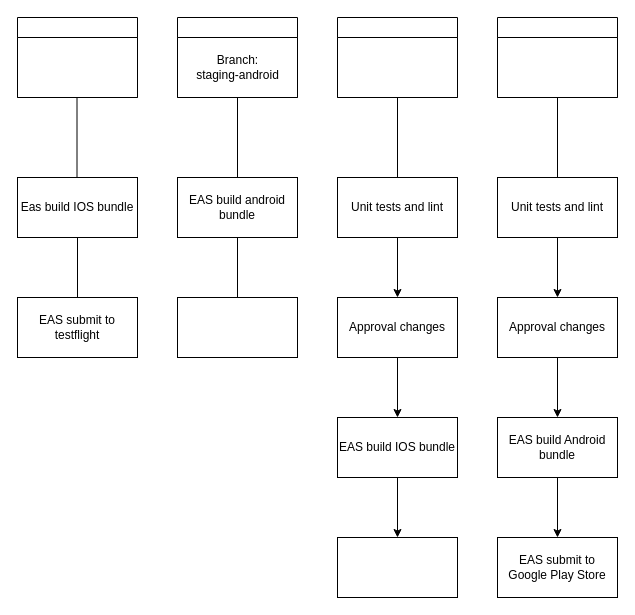
This 635x615 diagram has some shape labels left out. Each missing label, with the box of its shape:
Branch: prod-android: (496, 36, 618, 98)
Branch: prod-ios: (336, 36, 458, 98)
Branch: staging-ios: (16, 36, 138, 98)
EAS submit Google internal Test: (176, 296, 298, 358)
EAS submit to Apple Store: (336, 536, 458, 598)
